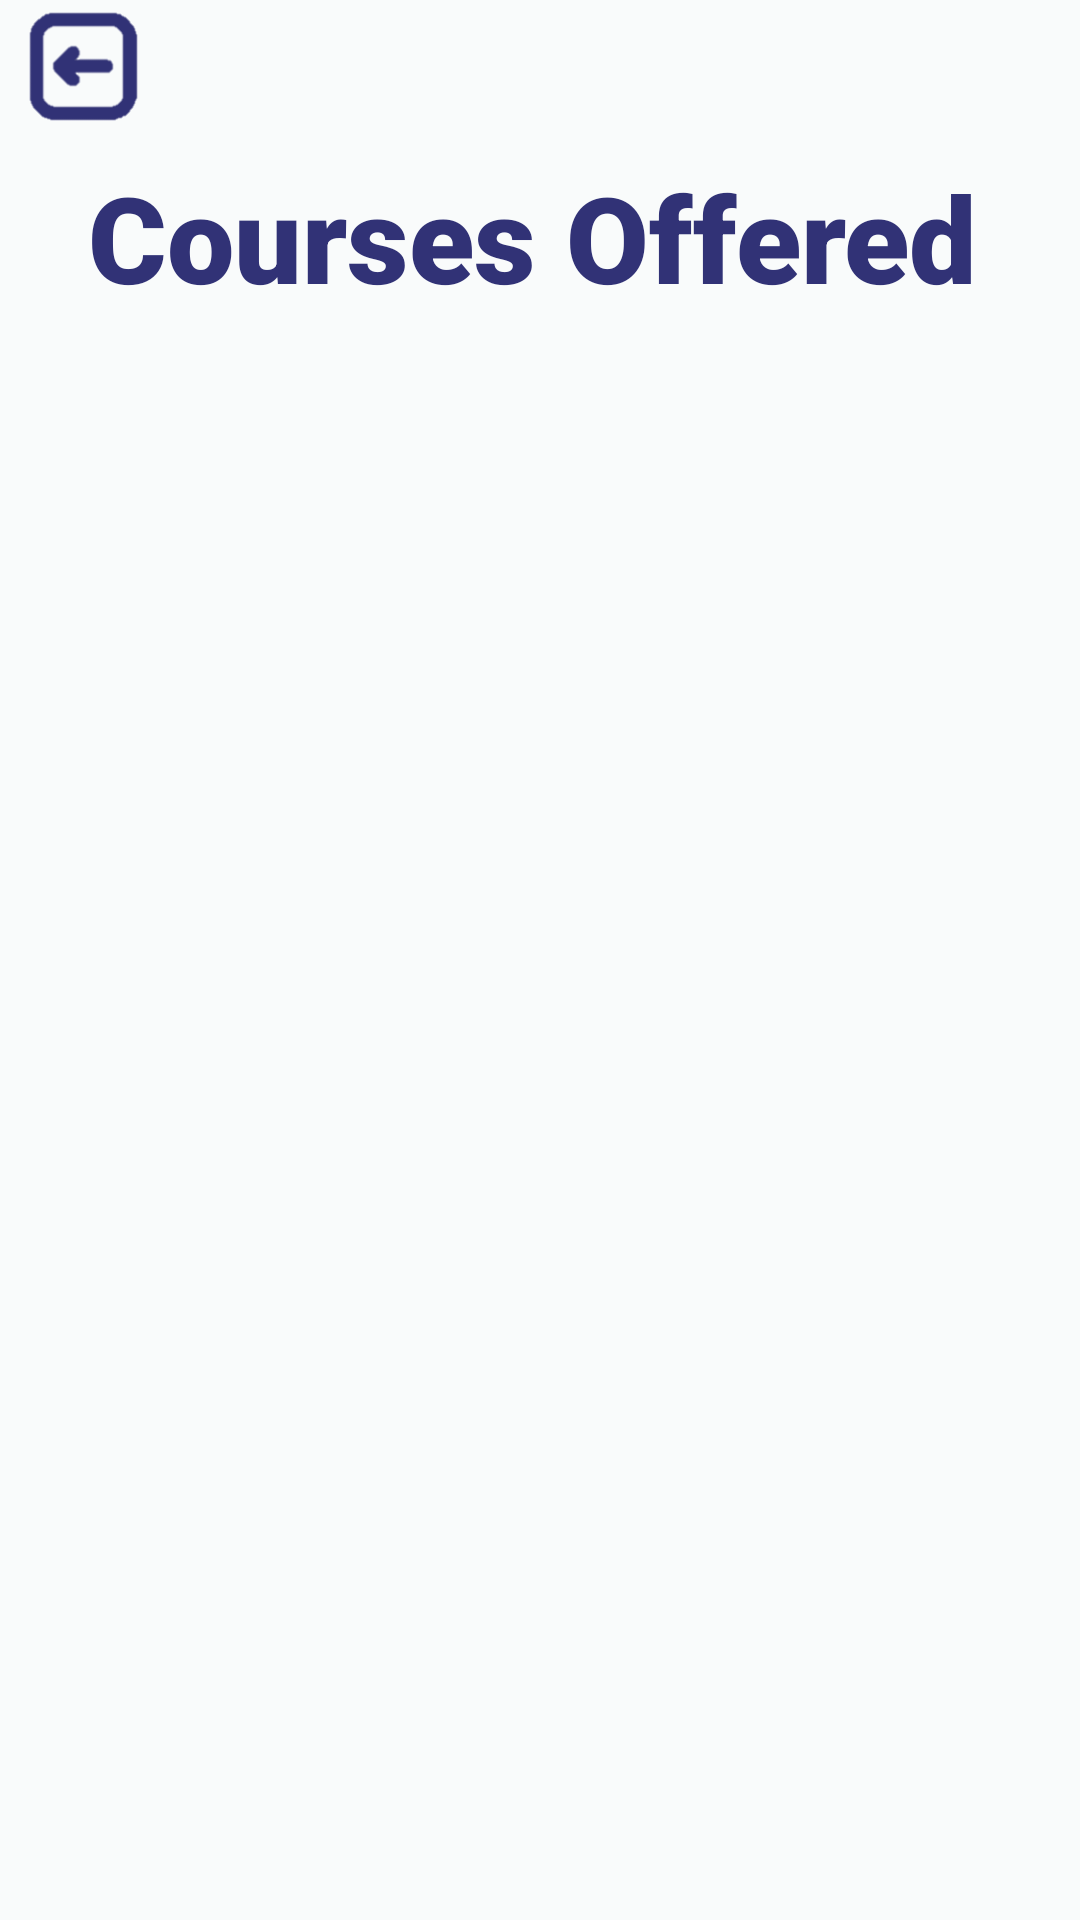

Screen size 1080*1920. Icon name, then its center in pixels as point (x, y):
back: point (83, 66)
